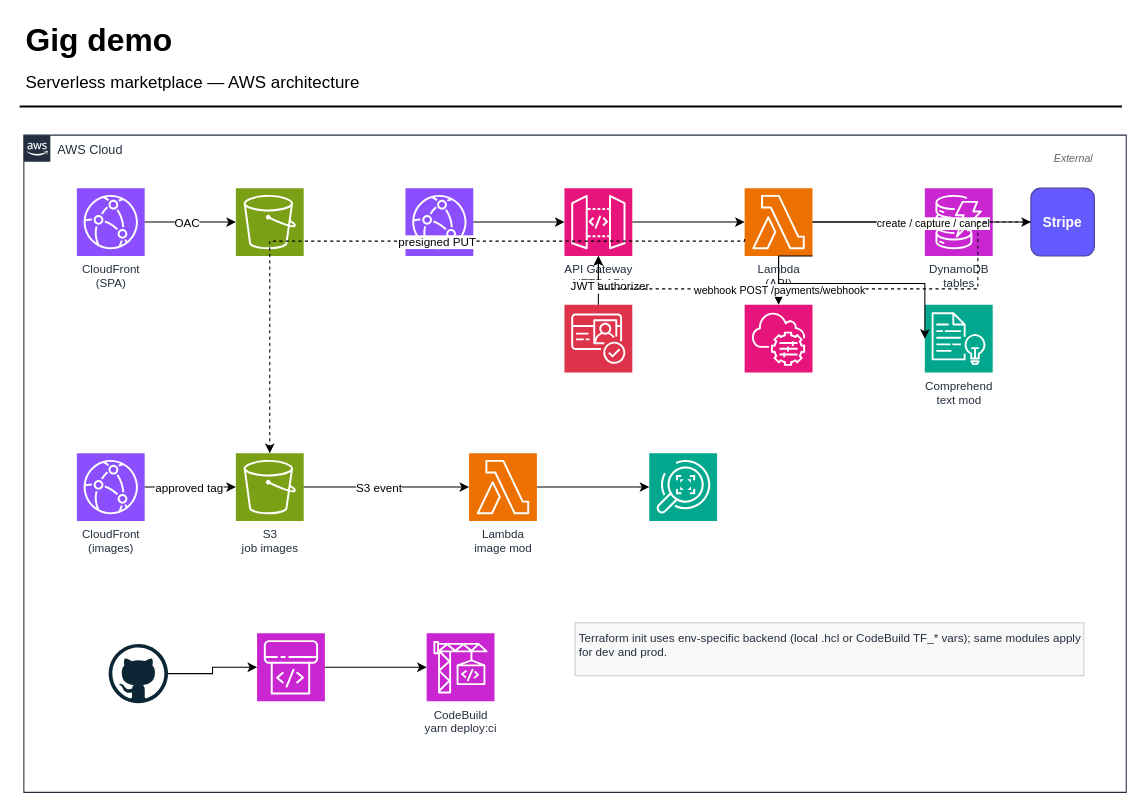
This 1145x811 diagram has some shape labels left out. Each missing label, with the centre of its shape:
"CloudFront (API)" belongs at (x=438, y=221).
"CodePipeline" belongs at (x=290, y=666).
"Cognito JWT" belongs at (x=597, y=338).
"Parameter Store" belongs at (x=778, y=338).
"Rekognition" belongs at (x=682, y=486).
"S3 (frontend)" belongs at (x=269, y=221).
